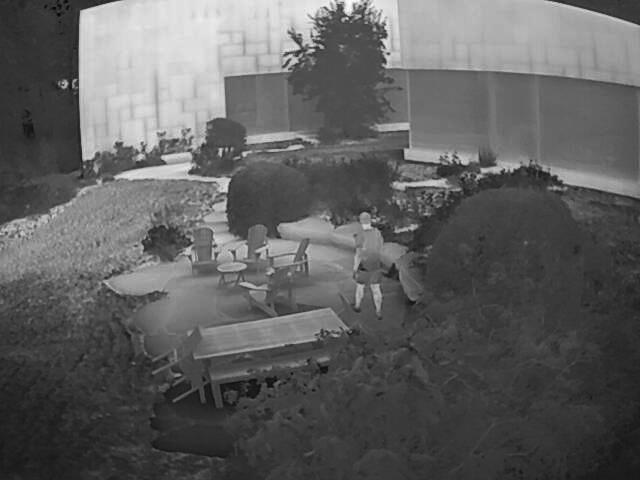person: (352, 210, 386, 323)
